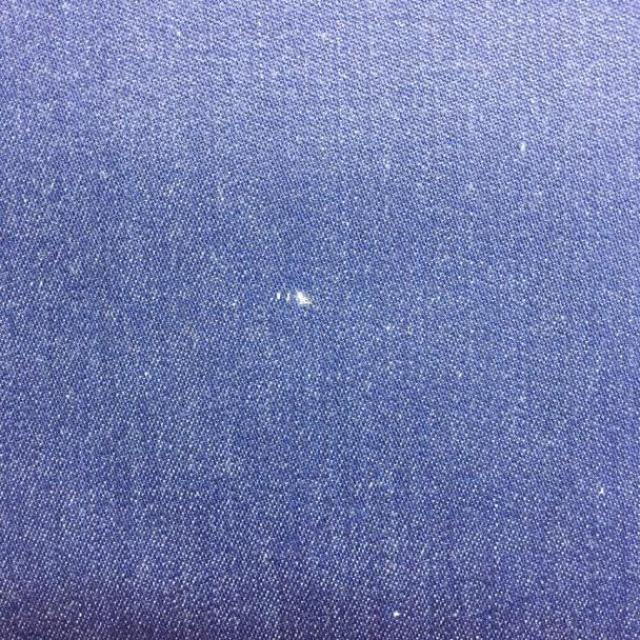Knot: (272, 289, 315, 309)
